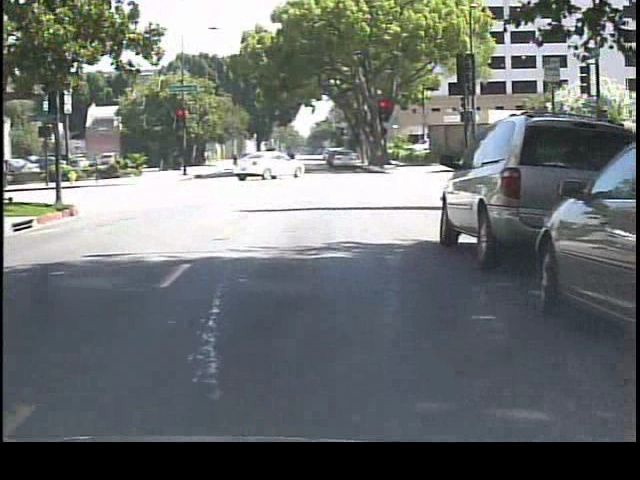person: (284, 141, 301, 176)
